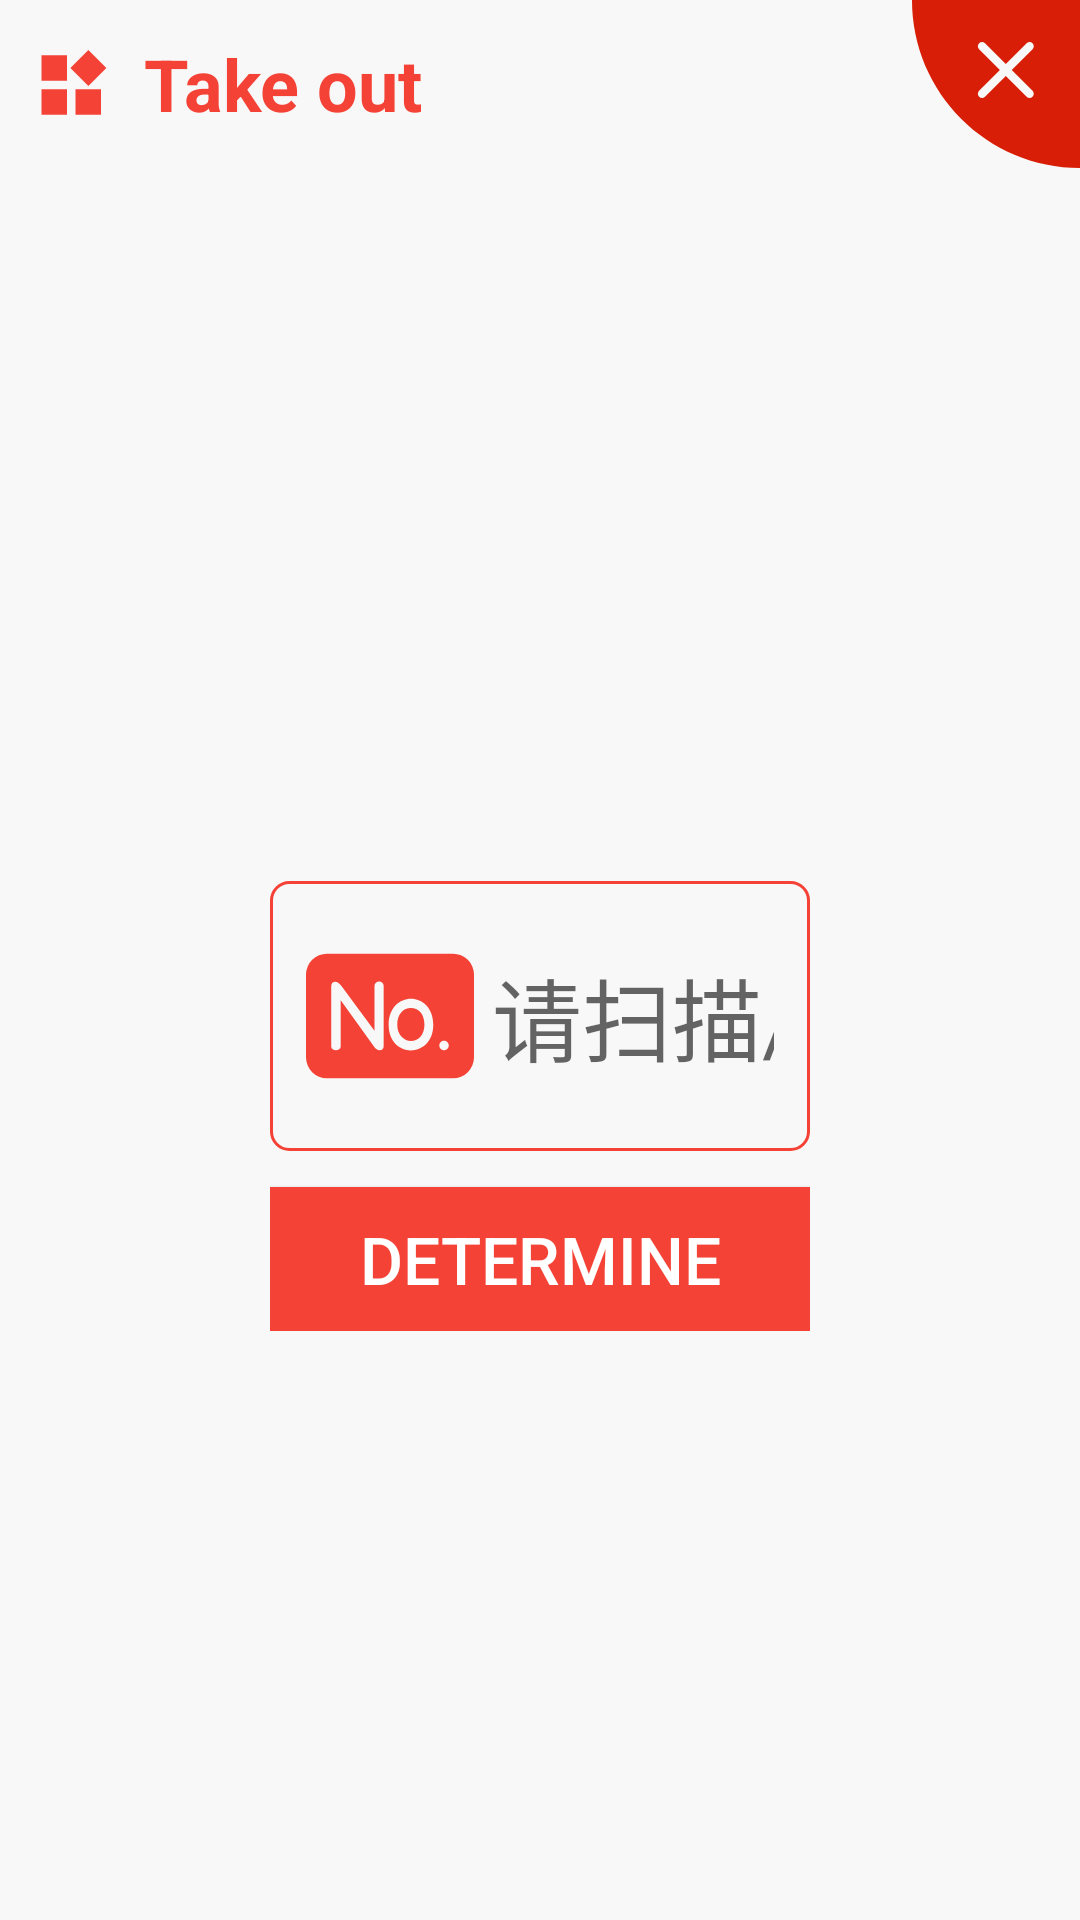

Icons on this 1080px×1920px Android screen, each with the point to tap as [x,y]:
close: [996,84]
